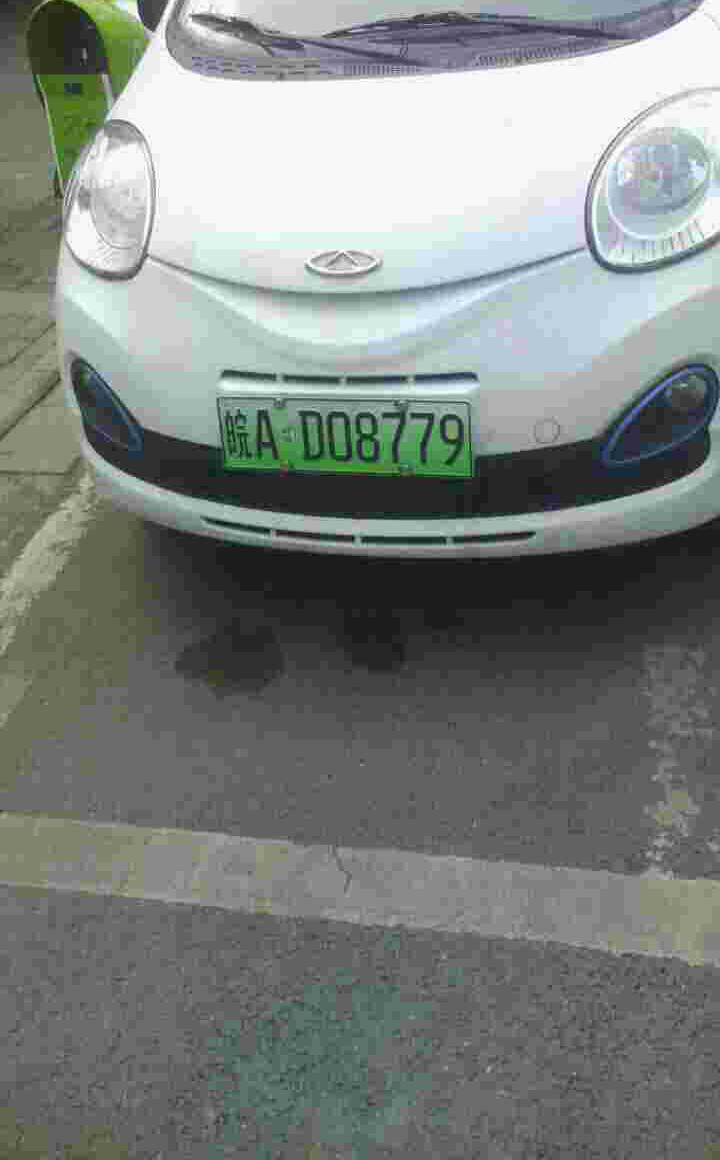car_id: (214, 396, 472, 478)
